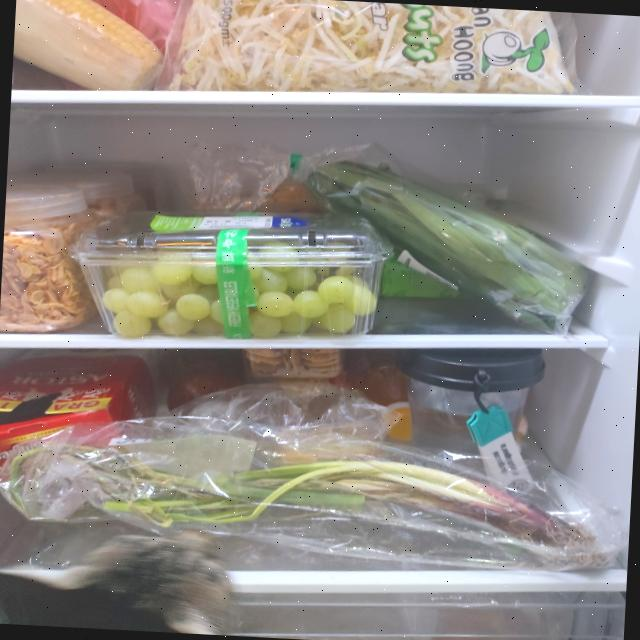bean_sprouts: (166, 0, 581, 113)
corn: (12, 0, 169, 94)
grape: (100, 224, 380, 350)
leafy_greens: (295, 157, 597, 336)
spring_onion: (4, 438, 616, 574)
